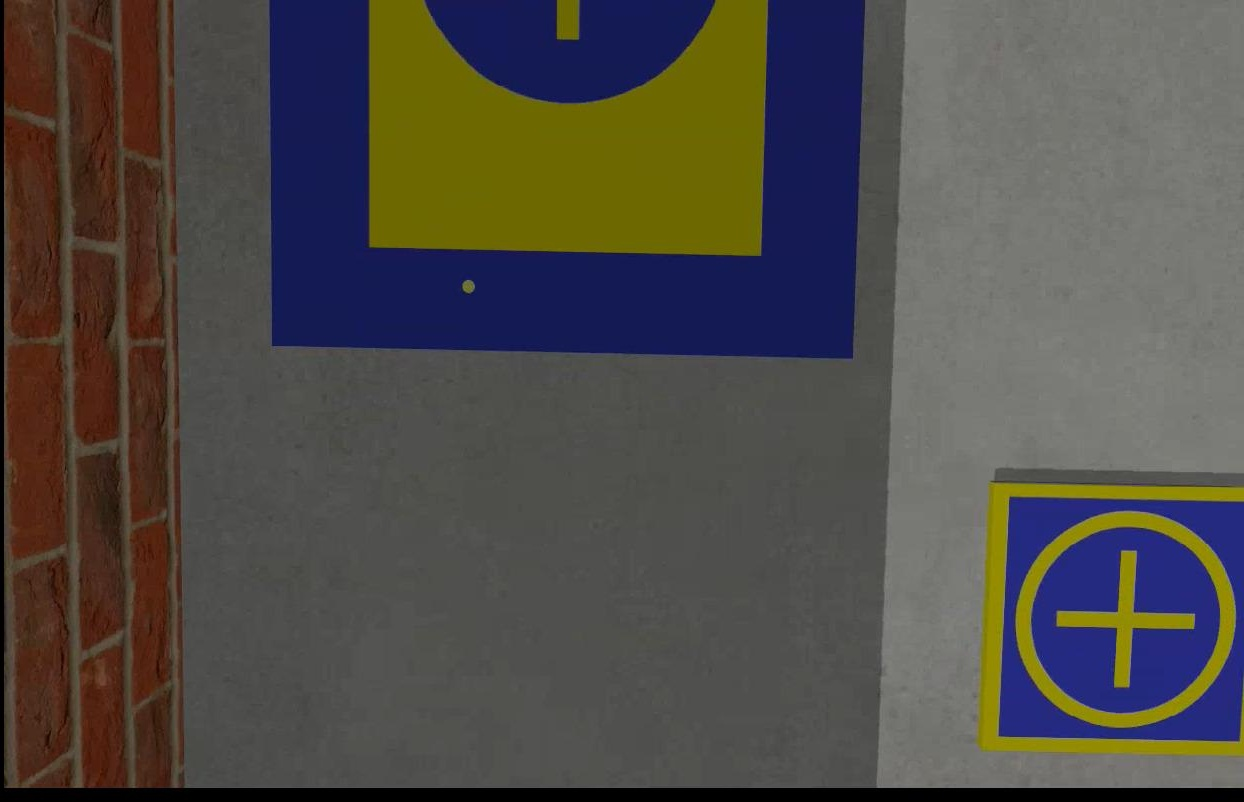large_base: (261, 1, 868, 362)
small_base: (983, 476, 1242, 757)
